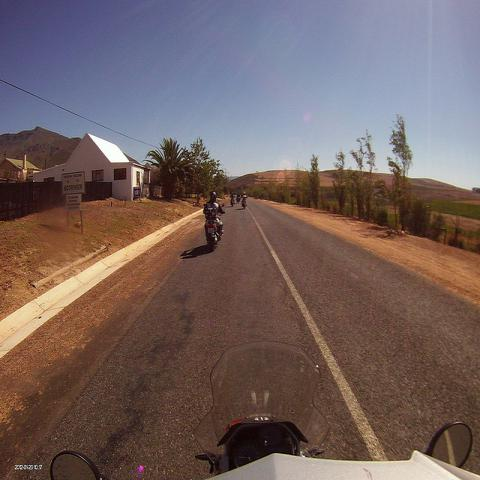motorcycle: (204, 203, 224, 252), (242, 198, 248, 208), (230, 196, 236, 206), (237, 197, 241, 203)
